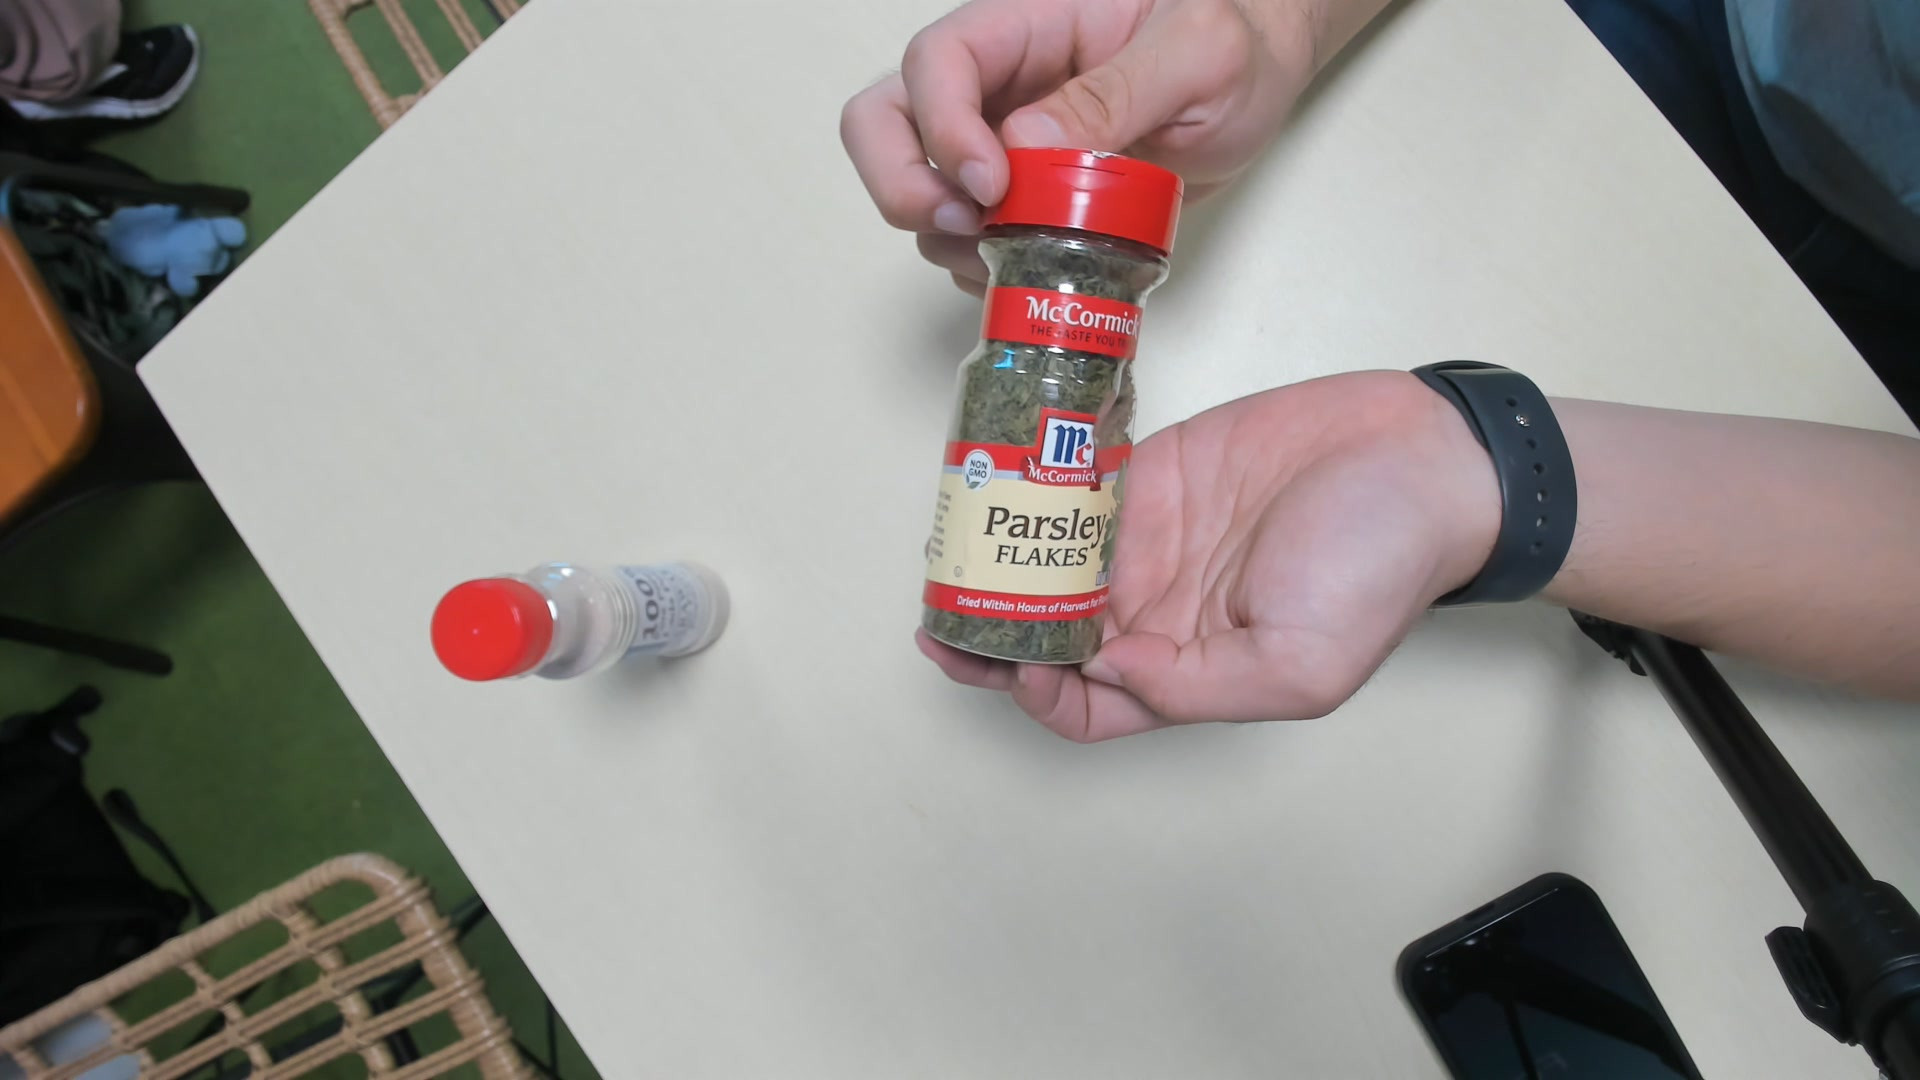HerbsSpicesPepper_0-99g_NonHalal_NonHealthy: (916, 144, 1179, 669)
